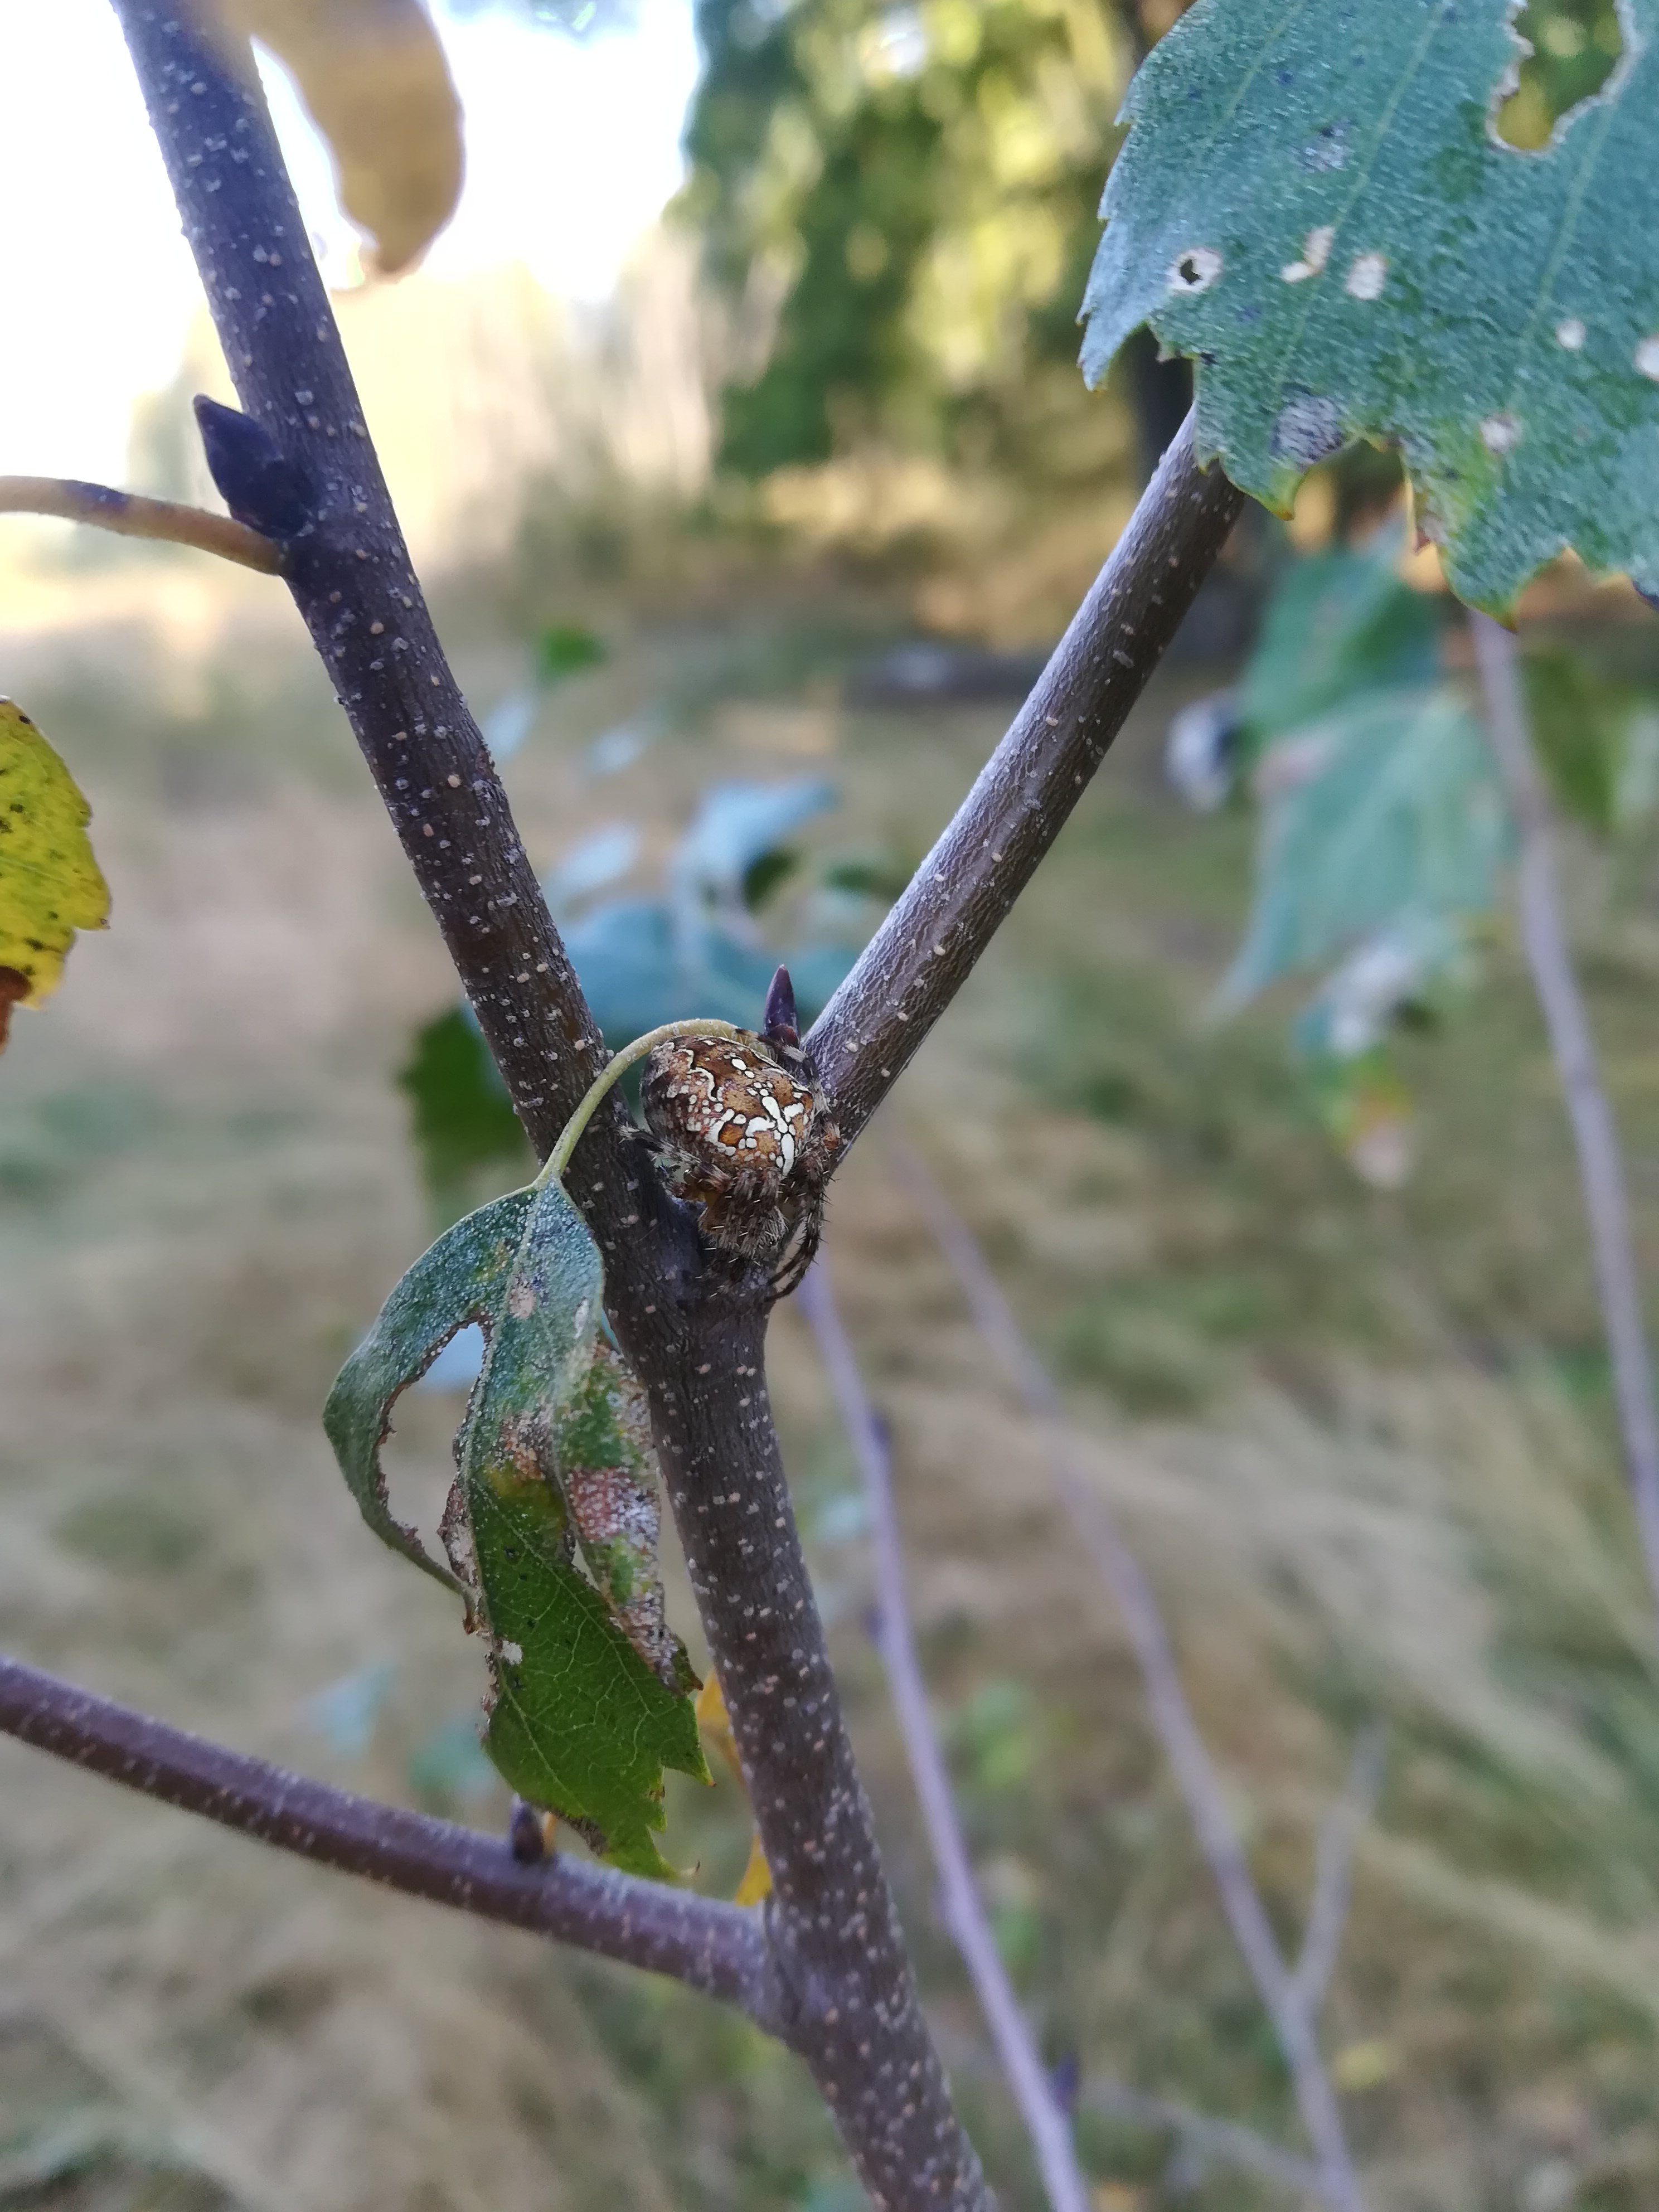spider: (586, 961, 861, 1348)
